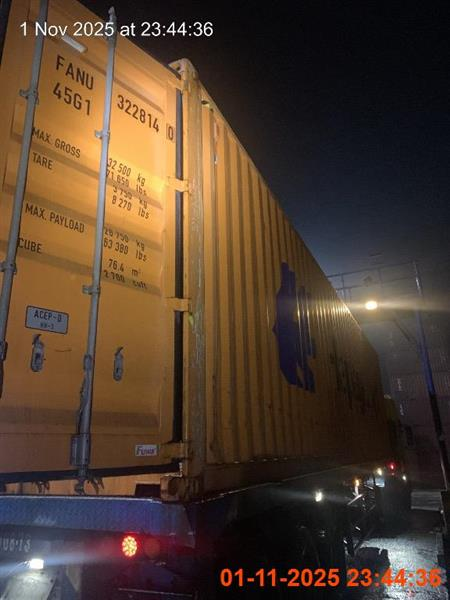crack: (1, 0, 412, 592)
